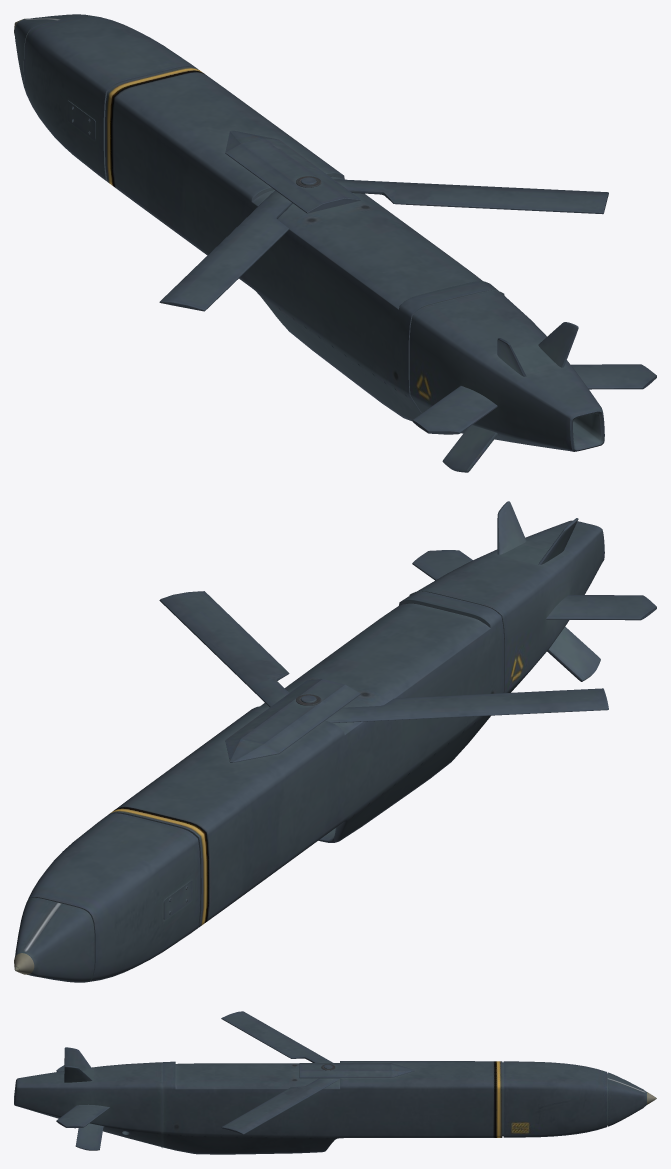
File: w_storm.glb
3 views of the same model, one above another, from view 1: azimuth 30°, elevation 25°; view 2: azimuth 150°, elevation 25°; view 3: azimuth 270°, elevation 25° (orthographic). The views are drawn at different scales.
Parts seen in each view (by area): view 1: body|Scene_-_Root, wingA|Scene_-_Root, wingB|Scene_-_Root; view 2: body|Scene_-_Root, wingB|Scene_-_Root, wingA|Scene_-_Root; view 3: body|Scene_-_Root, wingA|Scene_-_Root, wingB|Scene_-_Root.
Boxes of the visible parts, left/top/right/bottom form: body|Scene_-_Root: left=14, top=14, right=656, bottom=472; wingA|Scene_-_Root: left=334, top=179, right=608, bottom=214; wingB|Scene_-_Root: left=159, top=190, right=292, bottom=311; body|Scene_-_Root: left=14, top=501, right=656, bottom=982; wingB|Scene_-_Root: left=325, top=688, right=608, bottom=722; wingA|Scene_-_Root: left=159, top=591, right=289, bottom=706; body|Scene_-_Root: left=14, top=1047, right=656, bottom=1154; wingA|Scene_-_Root: left=221, top=1078, right=339, bottom=1134; wingB|Scene_-_Root: left=221, top=1011, right=332, bottom=1062.
Bounding box in the file's own units: 2.31 × 0.8076 × 5.1.
Materials: 3 (3 with a texture image).
